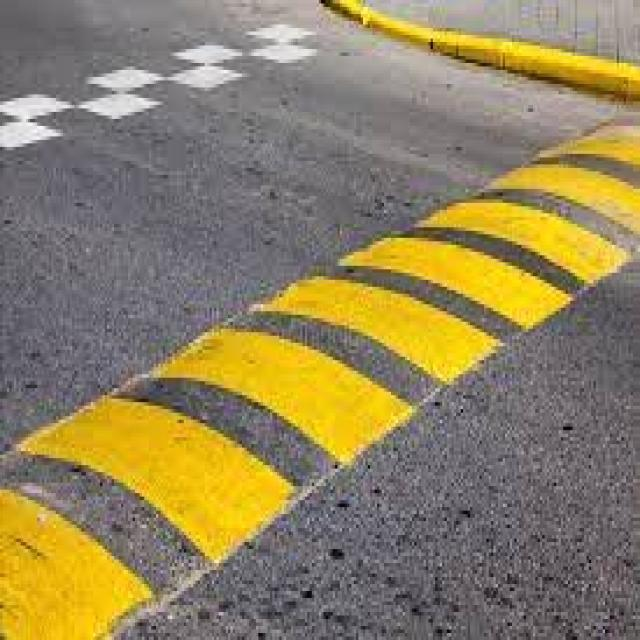speed-bump: (3, 51, 640, 640)
